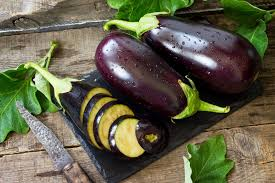eggplant: (89, 26, 240, 124), (101, 8, 268, 94), (24, 61, 167, 161)
